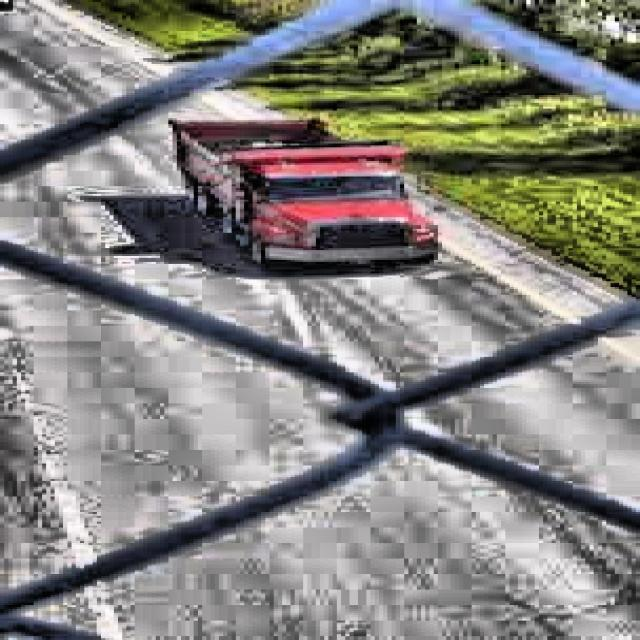dump_truck: (155, 110, 451, 274)
